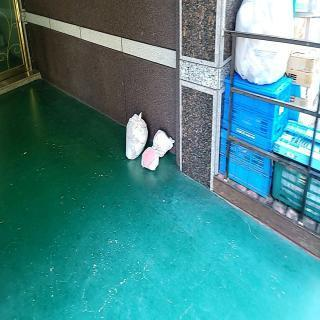Garbage: (126, 112, 150, 162), (154, 128, 178, 156), (140, 145, 162, 173)
